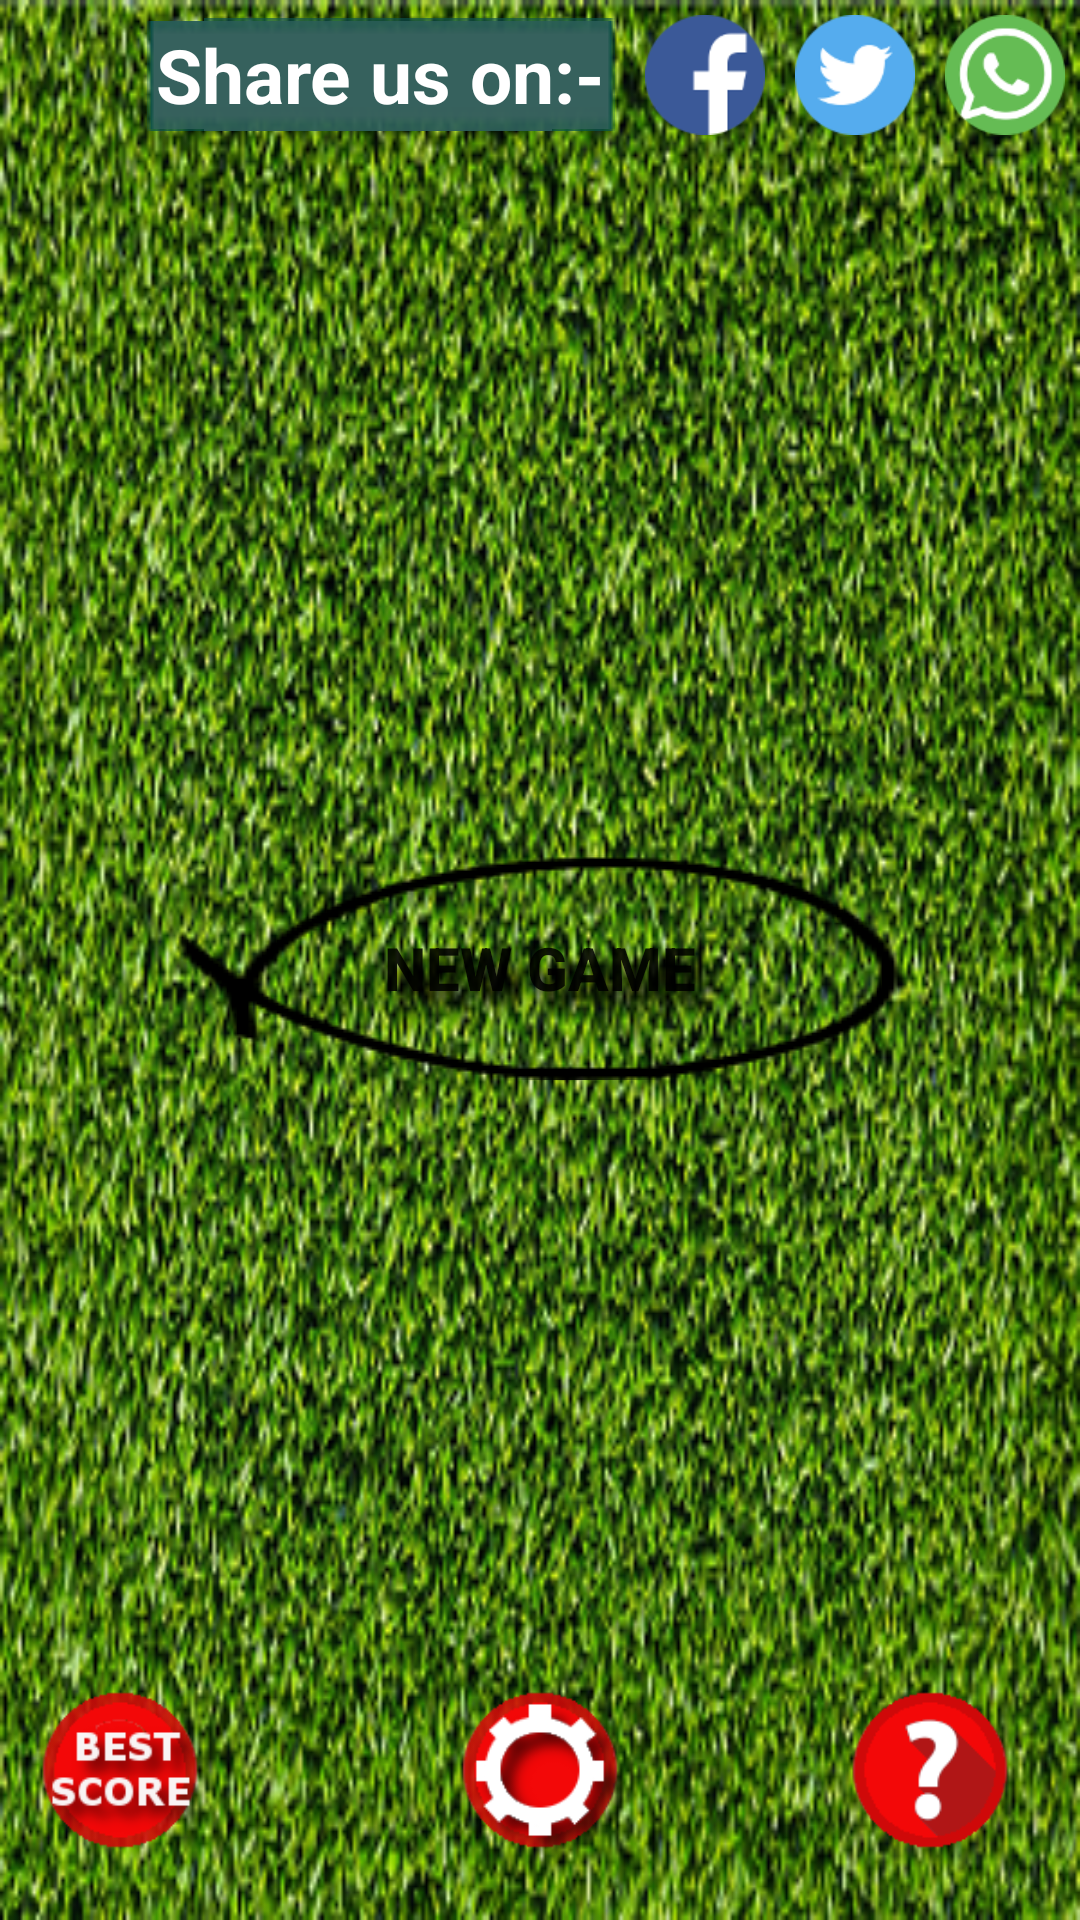

Named icons in this screenshot (1080 × 1920) and their centers, point (x, y):
help: point (930, 1770)
settings: point (540, 1770)
